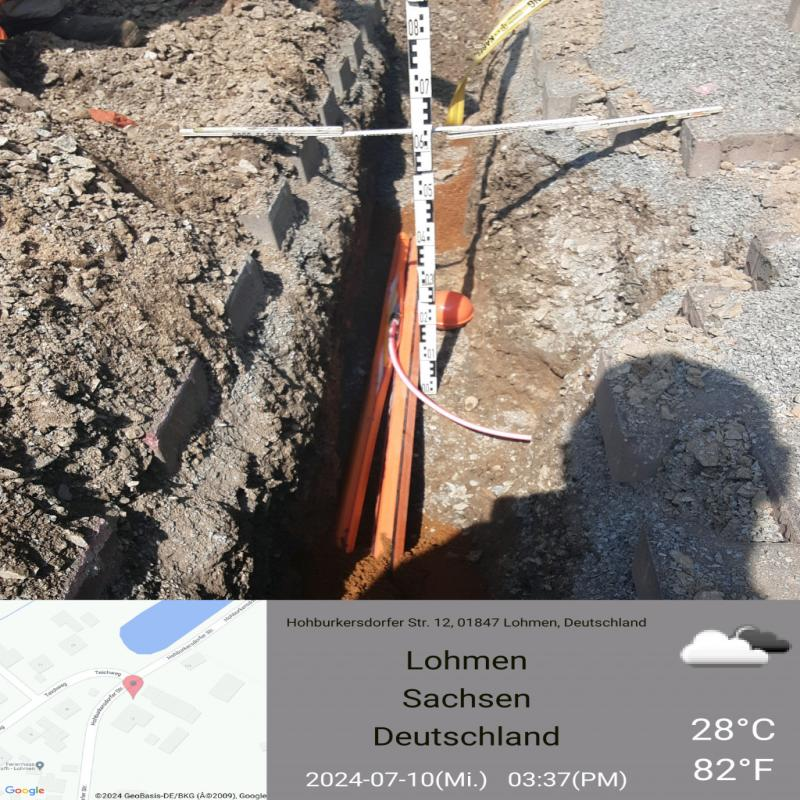Kugelmarker: (435, 291, 476, 332)
Orang-Speednetrohrchen: (370, 234, 422, 569)
